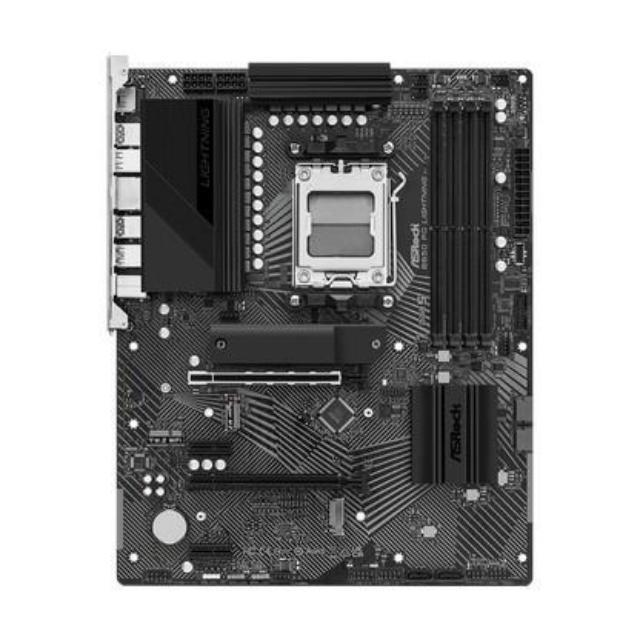Mainboard: (96, 54, 542, 592)
